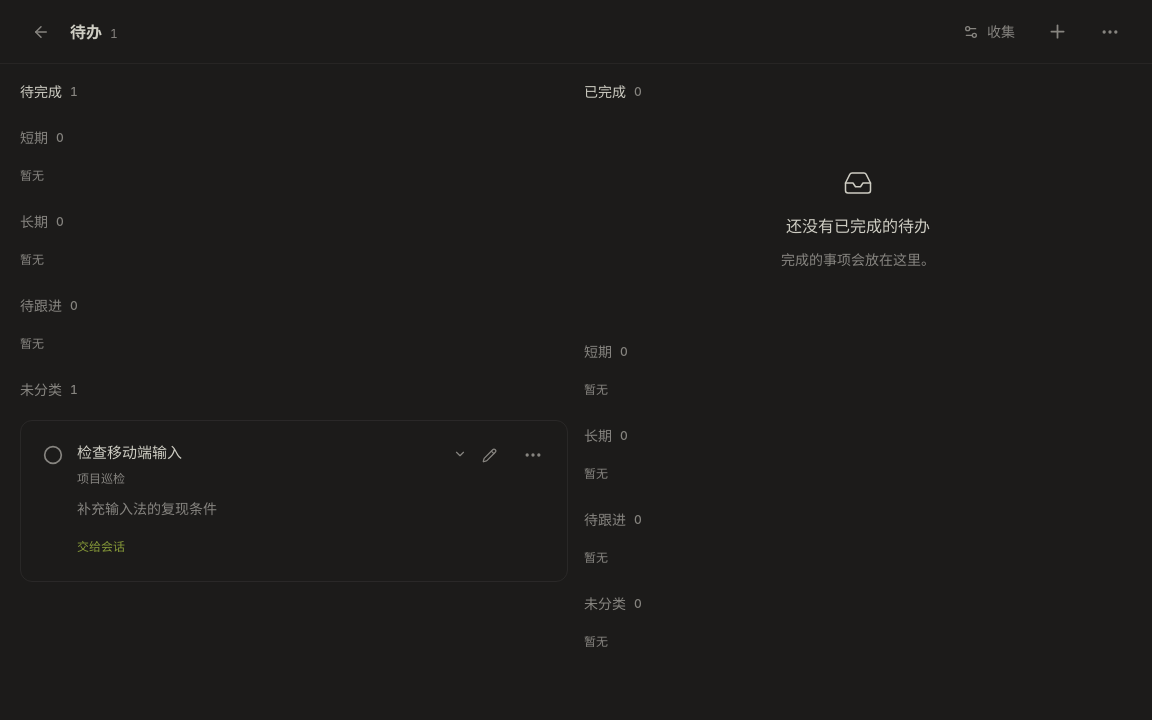
Test: marks completion directly and allows undo without requiring a model report
Expected: the text "检查移动端输入" is shown, [77,443,182,462]
Click the button named "完成 检查移动端输入" at (53, 455), box [33,433,73,477]
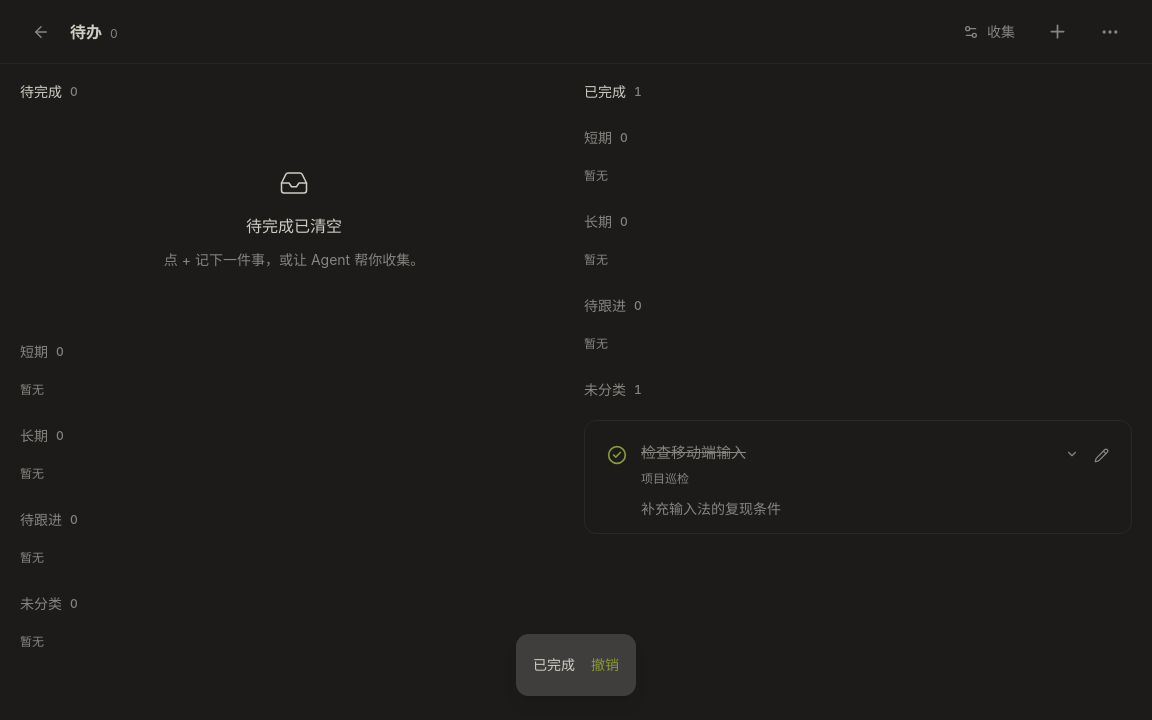
Now the heading "待完成已清空" is shown, box [246,214,342,238]
Click the button "撤销" at (605, 665), box [591,647,619,683]
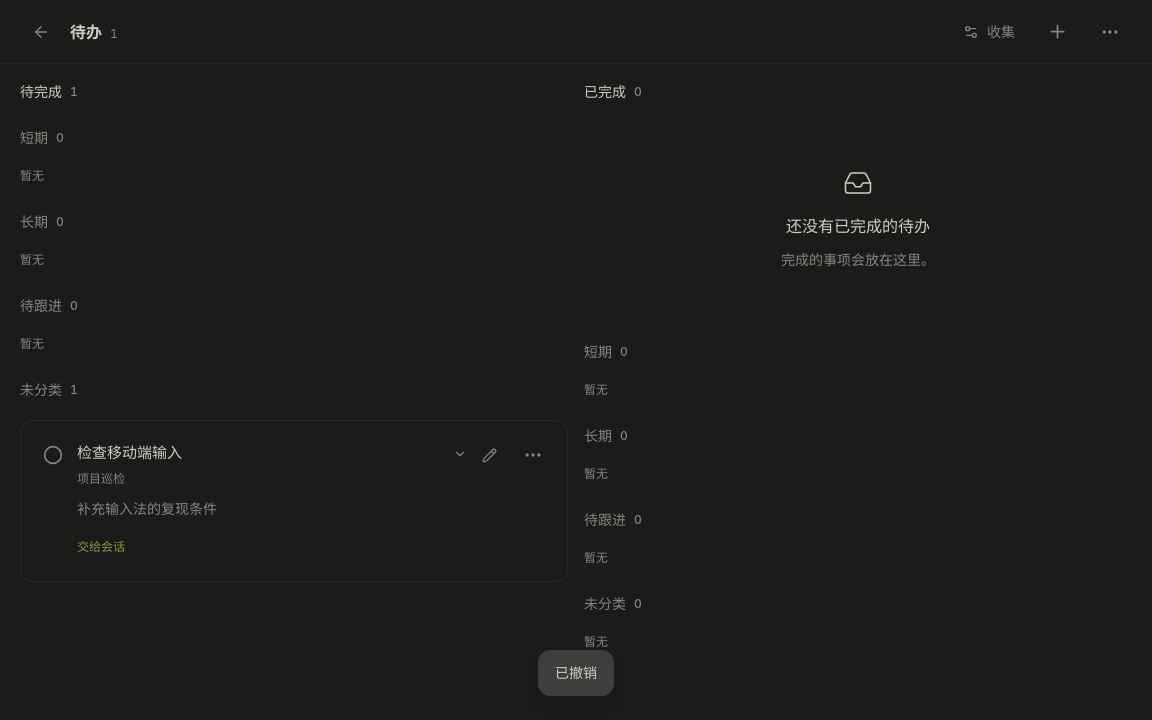
Now the button with aria-label "交给会话 检查移动端输入" is shown, box [69,525,133,569]
